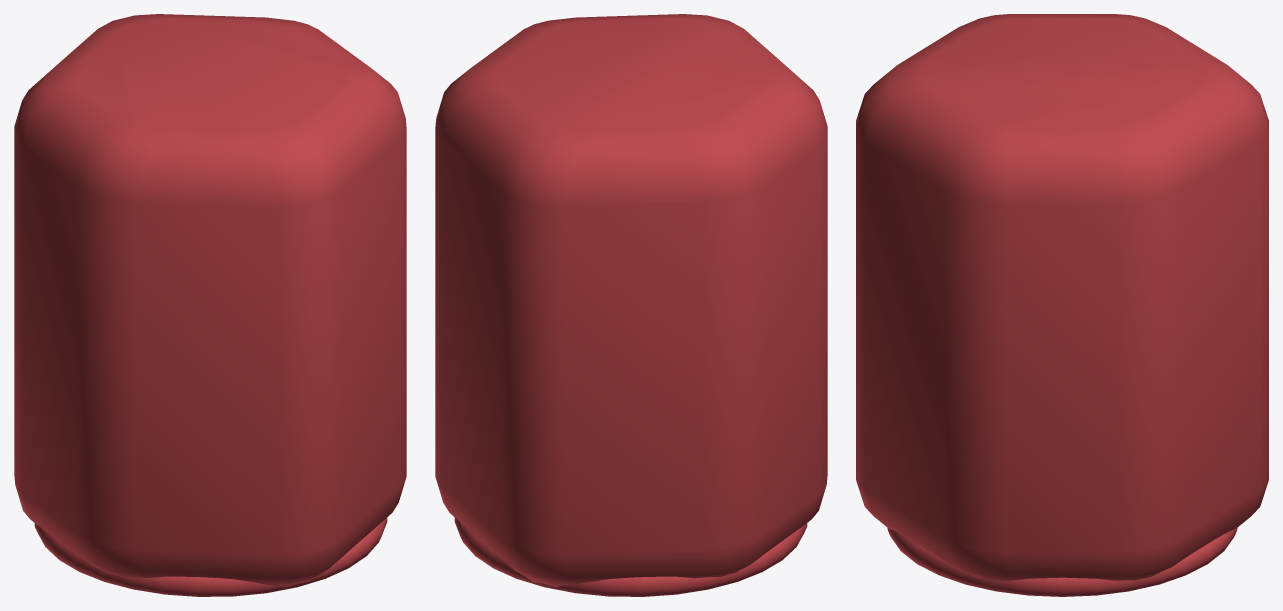
The model's file is Obstacles.fbx.
3 views of the same model, side by side, from view 1: azimuth 30°, elevation 25°; view 2: azimuth 150°, elevation 25°; view 3: azimuth 270°, elevation 25° (orthographic).
Parts seen in each view (by area): view 1: Obstacle, Fracture Object 17, Fracture Object 13, Fracture Object 16; view 2: Obstacle, Fracture Object 10, Fracture Object 16; view 3: Obstacle, Fracture Object 10, Fracture Object 12, Fracture Object 13.
Boxes of the visible parts, left/top/right/bottom form: Obstacle: left=14, top=14, right=406, bottom=586; Fracture Object 17: left=102, top=572, right=287, bottom=596; Fracture Object 13: left=287, top=528, right=378, bottom=589; Fracture Object 16: left=40, top=529, right=104, bottom=580; Obstacle: left=435, top=14, right=827, bottom=586; Fracture Object 10: left=454, top=517, right=714, bottom=596; Fracture Object 16: left=756, top=523, right=807, bottom=574; Obstacle: left=856, top=14, right=1268, bottom=580; Fracture Object 10: left=1061, top=528, right=1237, bottom=596; Fracture Object 12: left=930, top=553, right=1068, bottom=596; Fracture Object 13: left=887, top=528, right=932, bottom=571.
Bounding box in the file's own units: 15.28 × 20.73 × 17.03.
